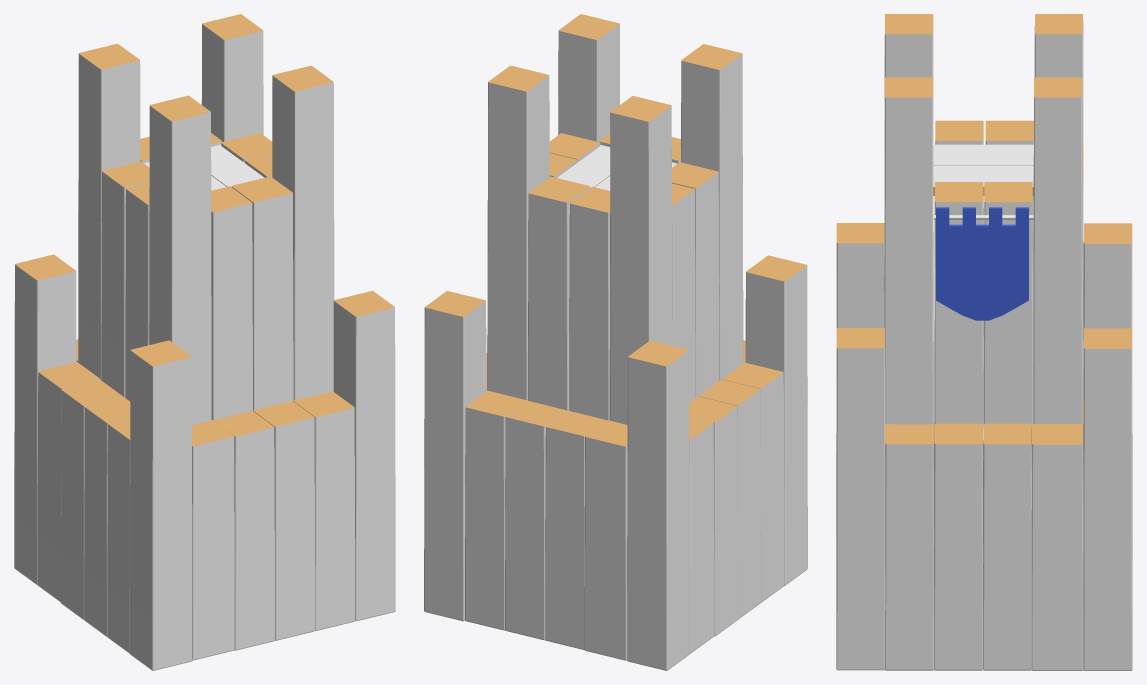
Rendered from TowerFull.glb.
The picture shows the model from 3 angles, left to right: view 1: azimuth 30°, elevation 25°; view 2: azimuth 150°, elevation 25°; view 3: azimuth 270°, elevation 25°; orthographic projection. The views are drawn at different scales.
Visible parts, largest first — view 1: wood_wall.001; view 2: wood_wall.001; view 3: wood_wall.001, Flag.
Part boxes in pixels (x1,y1,x2,y2): wood_wall.001: [14, 14, 395, 670]; wood_wall.001: [424, 14, 807, 670]; wood_wall.001: [836, 14, 1132, 670]; Flag: [934, 207, 1033, 320].
Bounding box in the file's own units: 2.14 × 4.37 × 2.12.
3 materials, 1 textured.
